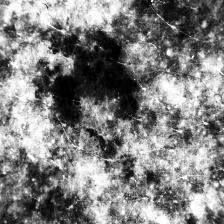Benign Marking or Mole: (17, 12, 176, 179)
